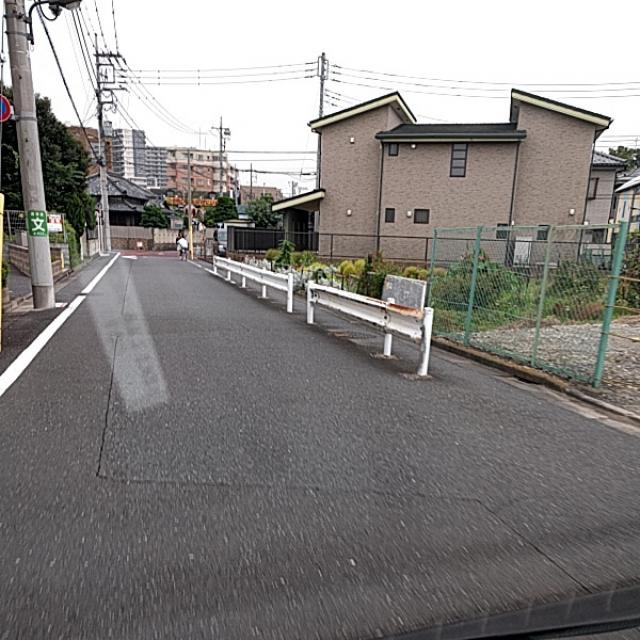pothole: (94, 384, 114, 467)
